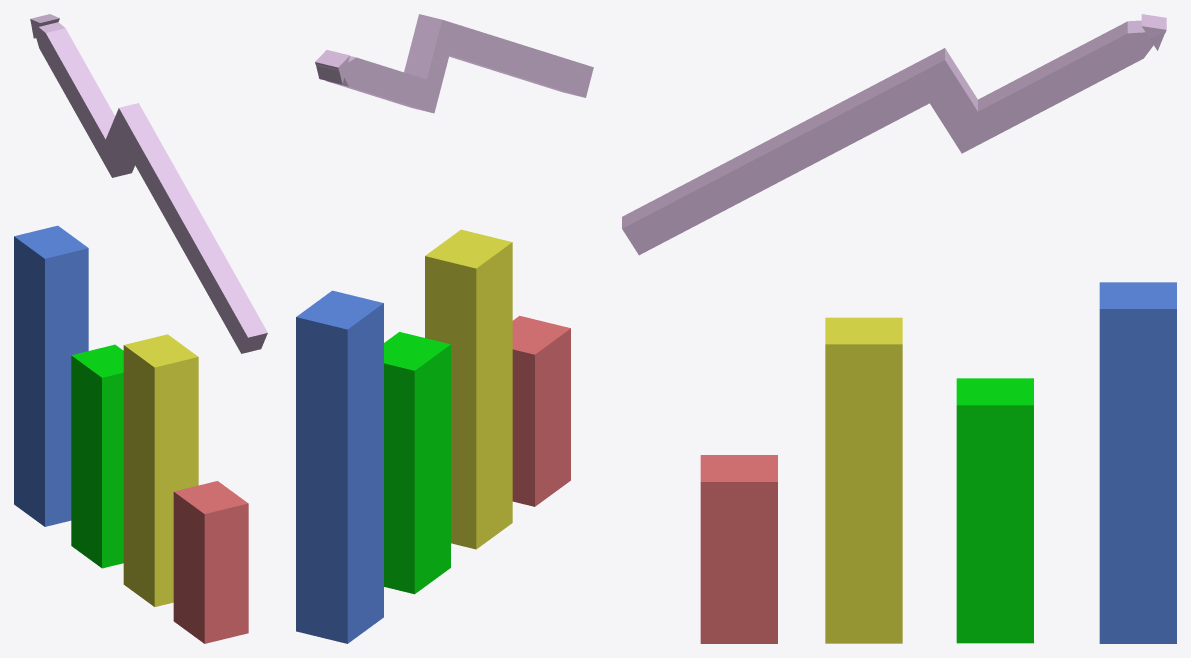
File: graph.gltf
3 renders of one model, left to right at view 1: azimuth 30°, elevation 25°; view 2: azimuth 150°, elevation 25°; view 3: azimuth 270°, elevation 25°, orthographic. The views are drawn at different scales.
Visible parts, largest first — view 1: Cube; view 2: Cube; view 3: Cube.
Part boxes in pixels (x1,y1,x2,y2): Cube: [14, 14, 267, 643]; Cube: [296, 14, 593, 643]; Cube: [622, 14, 1176, 643].
Bounding box in the file's own units: 0.1004 × 1.07 × 0.8788.
